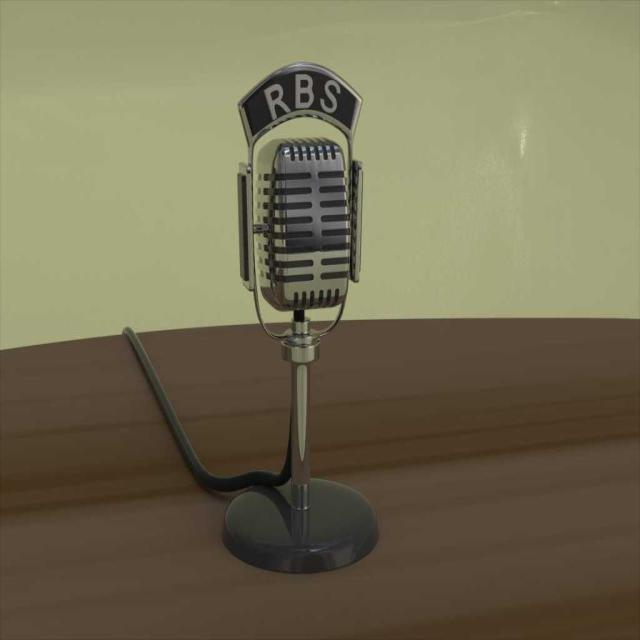microphone: (220, 64, 376, 570)
